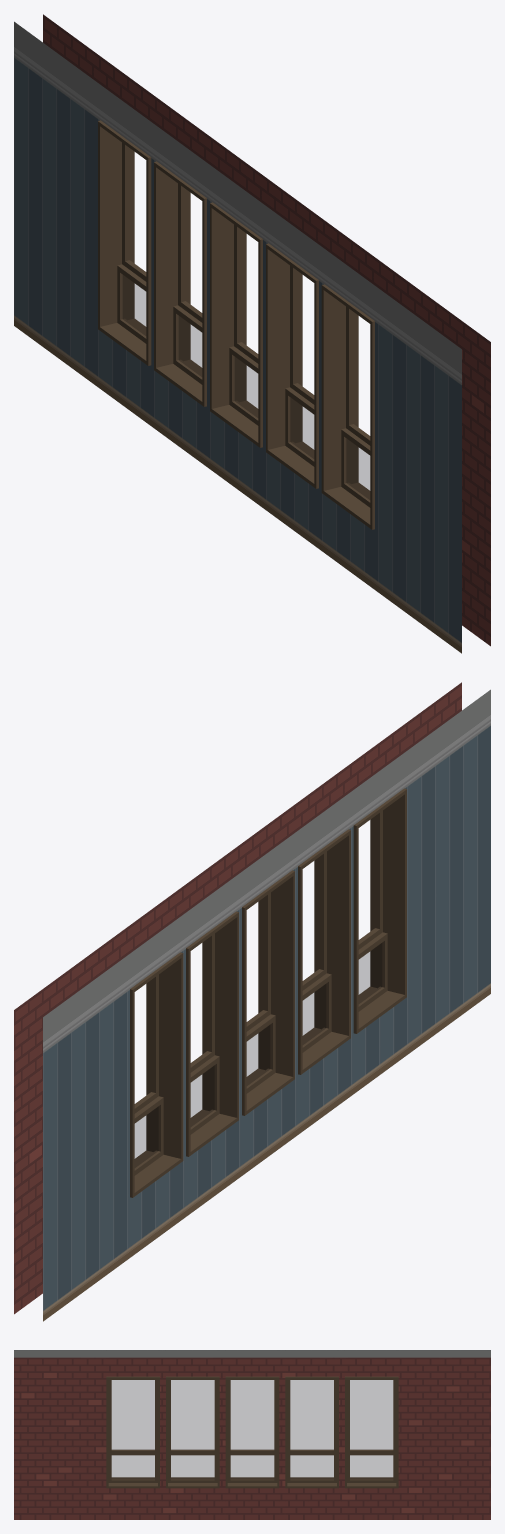
The model's file is SM_window_05_double.glb.
3 views of the same model, one above another, from view 1: azimuth 30°, elevation 25°; view 2: azimuth 150°, elevation 25°; view 3: azimuth 270°, elevation 25° (orthographic). The views are drawn at different scales.
Visible parts, largest first — view 1: SM_window_05_double; view 2: SM_window_05_double; view 3: SM_window_05_double.
Boxes of the visible parts, x1=… form: SM_window_05_double: x1=14, y1=14, x2=490, y2=653; SM_window_05_double: x1=14, y1=682, x2=490, y2=1321; SM_window_05_double: x1=14, y1=1350, x2=490, y2=1519.
Size of the model in its own units: 0.36 by 3 by 8.
4 materials, 3 textured.
